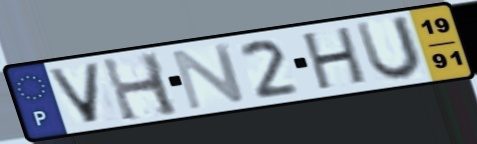2: (236, 38, 303, 101)
H: (98, 50, 184, 124), (300, 24, 370, 93)
N: (168, 40, 250, 112)
U: (351, 13, 427, 83)
V: (44, 60, 105, 126)
